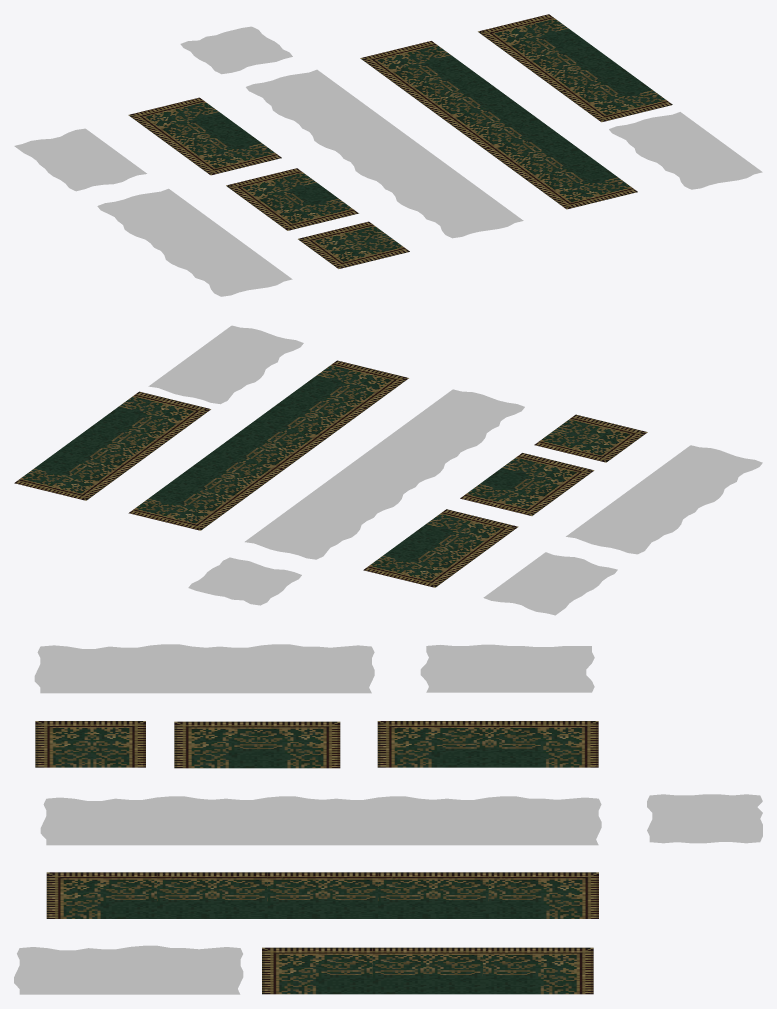
The model's file is EnvMdrMD_Mansion_GrdCpt_B_200W200D.FBX.
The picture shows the model from 3 angles, top to bottom: view 1: azimuth 30°, elevation 25°; view 2: azimuth 150°, elevation 25°; view 3: azimuth 270°, elevation 25°; orthographic projection. The views are drawn at different scales.
Visible parts, largest first — view 1: EnvMdrMD_Mansion_GrdCpt_B_End_1000W200D, EnvMdrMD_Mansion_GrdCpt_B_End_Straight_1000W200D_NoLine, EnvMdrMD_Mansion_GrdCpt_B_End_600W200D, EnvMdrMD_Mansion_GrdCpt_B_End_Straight_600W200D, EnvMdrMD_Mansion_GrdCpt_B_End_400W200D, EnvMdrMD_Mansion_GrdCpt_B_End_Straight_400W200D, EnvMdrMD_Mansion_GrdCpt_B_End_300W200D, EnvMdrMD_Mansion_GrdCpt_B_End_Straighet_300W200D, EnvMdrMD_Mansion_GrdCpt_B_200W200D, EnvMdrMD_Mansion_GrdCpt_B_End_Straight_200W200D; view 2: EnvMdrMD_Mansion_GrdCpt_B_End_1000W200D, EnvMdrMD_Mansion_GrdCpt_B_End_Straight_1000W200D_NoLine, EnvMdrMD_Mansion_GrdCpt_B_End_600W200D, EnvMdrMD_Mansion_GrdCpt_B_End_Straight_600W200D, EnvMdrMD_Mansion_GrdCpt_B_End_400W200D, EnvMdrMD_Mansion_GrdCpt_B_End_Straight_400W200D, EnvMdrMD_Mansion_GrdCpt_B_End_300W200D, EnvMdrMD_Mansion_GrdCpt_B_End_Straighet_300W200D, EnvMdrMD_Mansion_GrdCpt_B_200W200D, EnvMdrMD_Mansion_GrdCpt_B_End_Straight_200W200D; view 3: EnvMdrMD_Mansion_GrdCpt_B_End_1000W200D, EnvMdrMD_Mansion_GrdCpt_B_End_Straight_1000W200D_NoLine, EnvMdrMD_Mansion_GrdCpt_B_End_600W200D, EnvMdrMD_Mansion_GrdCpt_B_End_Straight_600W200D, EnvMdrMD_Mansion_GrdCpt_B_End_400W200D, EnvMdrMD_Mansion_GrdCpt_B_End_Straight_400W200D, EnvMdrMD_Mansion_GrdCpt_B_End_Straighet_300W200D, EnvMdrMD_Mansion_GrdCpt_B_End_300W200D, EnvMdrMD_Mansion_GrdCpt_B_200W200D, EnvMdrMD_Mansion_GrdCpt_B_End_Straight_200W200D.
Part boxes in pixels (x1,y1,x2,y2): EnvMdrMD_Mansion_GrdCpt_B_End_1000W200D: [246, 69, 523, 238]; EnvMdrMD_Mansion_GrdCpt_B_End_Straight_1000W200D_NoLine: [360, 41, 637, 209]; EnvMdrMD_Mansion_GrdCpt_B_End_600W200D: [97, 188, 292, 296]; EnvMdrMD_Mansion_GrdCpt_B_End_Straight_600W200D: [478, 14, 672, 122]; EnvMdrMD_Mansion_GrdCpt_B_End_400W200D: [609, 112, 762, 189]; EnvMdrMD_Mansion_GrdCpt_B_End_Straight_400W200D: [128, 97, 281, 175]; EnvMdrMD_Mansion_GrdCpt_B_End_300W200D: [14, 128, 146, 191]; EnvMdrMD_Mansion_GrdCpt_B_End_Straighet_300W200D: [226, 168, 358, 230]; EnvMdrMD_Mansion_GrdCpt_B_200W200D: [180, 26, 292, 74]; EnvMdrMD_Mansion_GrdCpt_B_End_Straight_200W200D: [298, 221, 409, 268]; EnvMdrMD_Mansion_GrdCpt_B_End_1000W200D: [245, 389, 524, 559]; EnvMdrMD_Mansion_GrdCpt_B_End_Straight_1000W200D_NoLine: [128, 360, 408, 530]; EnvMdrMD_Mansion_GrdCpt_B_End_600W200D: [566, 445, 762, 554]; EnvMdrMD_Mansion_GrdCpt_B_End_Straight_600W200D: [14, 391, 210, 500]; EnvMdrMD_Mansion_GrdCpt_B_End_400W200D: [148, 325, 303, 404]; EnvMdrMD_Mansion_GrdCpt_B_End_Straight_400W200D: [363, 509, 518, 587]; EnvMdrMD_Mansion_GrdCpt_B_End_300W200D: [483, 552, 617, 615]; EnvMdrMD_Mansion_GrdCpt_B_End_Straighet_300W200D: [460, 453, 594, 515]; EnvMdrMD_Mansion_GrdCpt_B_200W200D: [188, 557, 301, 605]; EnvMdrMD_Mansion_GrdCpt_B_End_Straight_200W200D: [534, 414, 647, 462]; EnvMdrMD_Mansion_GrdCpt_B_End_1000W200D: [40, 796, 601, 845]; EnvMdrMD_Mansion_GrdCpt_B_End_Straight_1000W200D_NoLine: [46, 872, 598, 918]; EnvMdrMD_Mansion_GrdCpt_B_End_600W200D: [34, 644, 374, 693]; EnvMdrMD_Mansion_GrdCpt_B_End_Straight_600W200D: [262, 947, 593, 994]; EnvMdrMD_Mansion_GrdCpt_B_End_400W200D: [14, 945, 243, 994]; EnvMdrMD_Mansion_GrdCpt_B_End_Straight_400W200D: [377, 721, 598, 767]; EnvMdrMD_Mansion_GrdCpt_B_End_Straighet_300W200D: [174, 721, 340, 768]; EnvMdrMD_Mansion_GrdCpt_B_End_300W200D: [420, 644, 594, 692]; EnvMdrMD_Mansion_GrdCpt_B_200W200D: [647, 794, 762, 843]; EnvMdrMD_Mansion_GrdCpt_B_End_Straight_200W200D: [35, 721, 145, 767].
Size of the model in its own units: 1504 by 2 by 1356.
